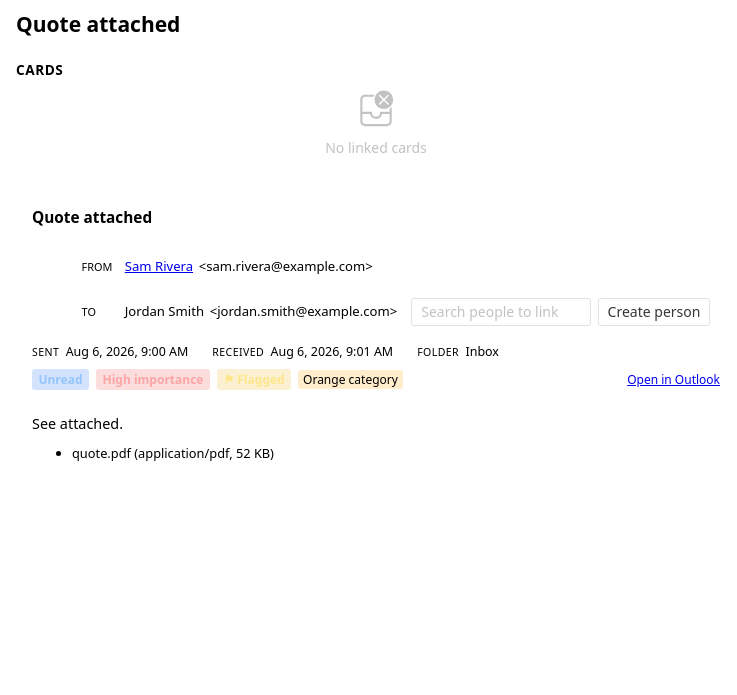
EmailConversationPage — link/create controls (US4) › a 409 response from the create-person submit surfaces as the control error text
Click the button "Create person". click: (654, 312)
box: [598,298,710,326]
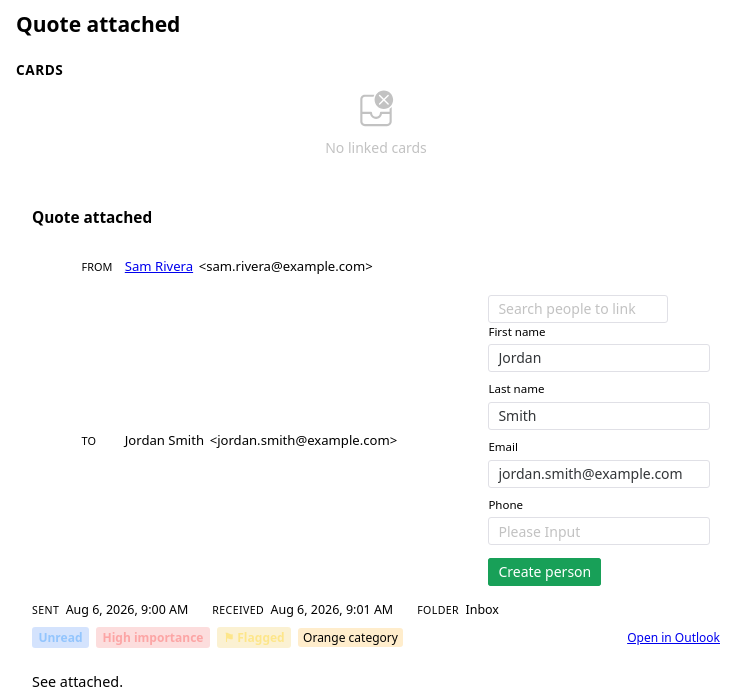
Click the button "Create person". click: (545, 572)
box: [488,558,601,586]
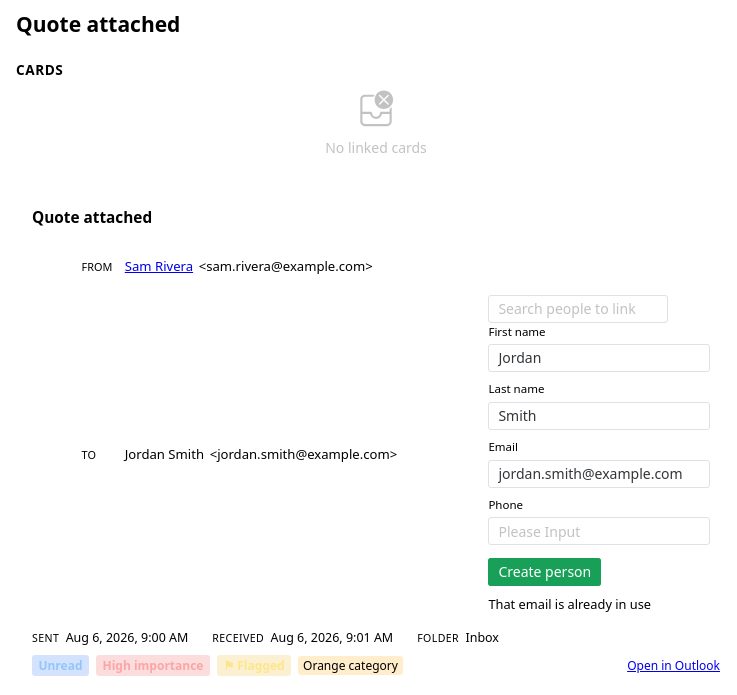
Expected: the text "That email is already in use" is shown, [488,595,651,613]
